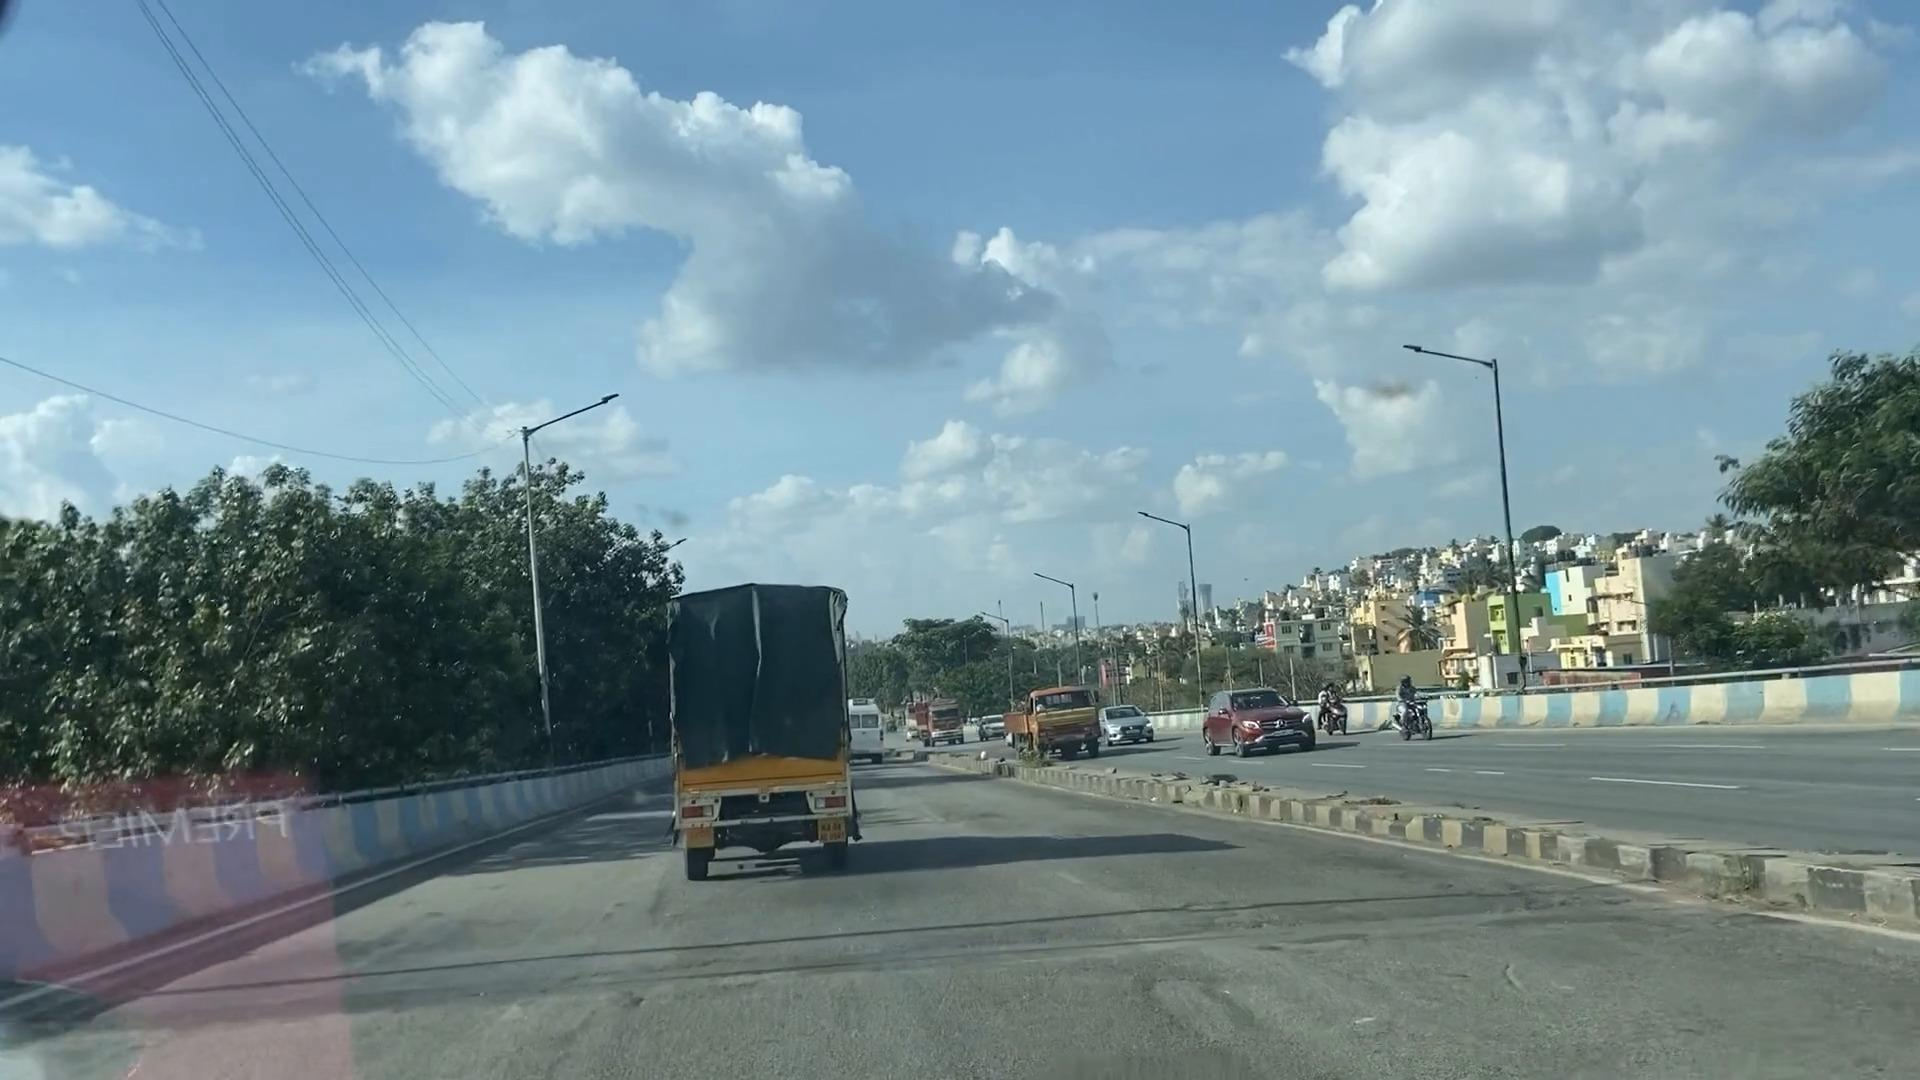HMV: (634, 575, 876, 877)
RoadDamages: (389, 932, 916, 1063), (1284, 862, 1602, 1051), (1102, 914, 1311, 1036)
